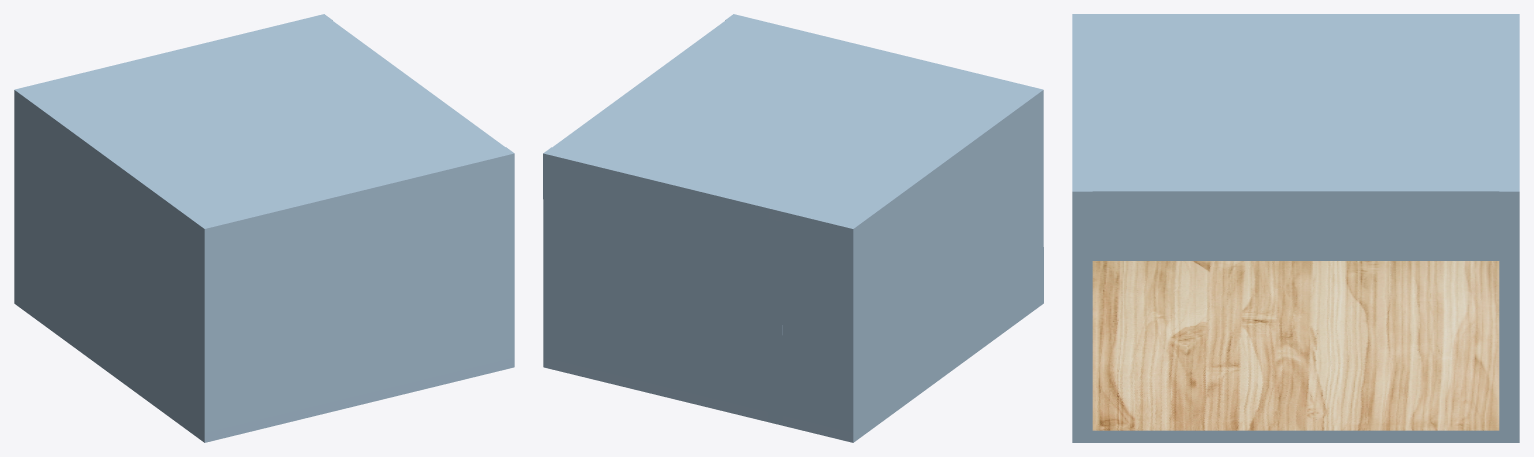
The model's file is kelas.fbx.
3 renders of one model, left to right at view 1: azimuth 30°, elevation 25°; view 2: azimuth 150°, elevation 25°; view 3: azimuth 270°, elevation 25°, orthographic. The views are drawn at different scales.
Parts seen in each view (by area): view 1: Cube; view 2: Cube; view 3: Cube.
Part boxes in pixels (x1=…): Cube: x1=14, y1=14, x2=514, y2=442; Cube: x1=543, y1=14, x2=1043, y2=442; Cube: x1=1072, y1=14, x2=1519, y2=442.
Bounding box in the file's own units: 1897 × 1251 × 2019.
5 materials, 2 textured.
